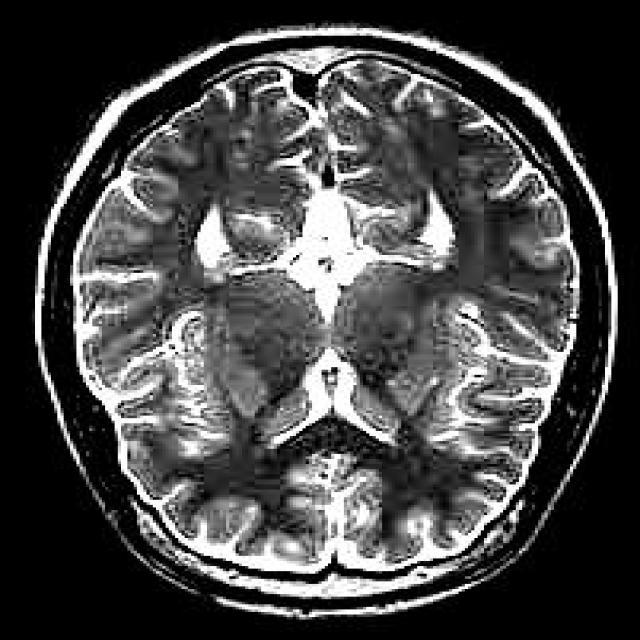notumor: (38, 25, 621, 622)
